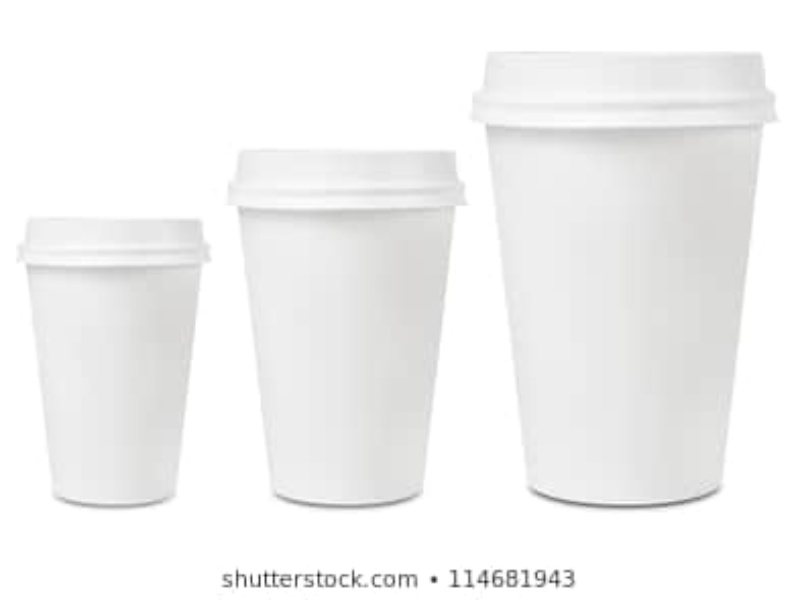coffee-lid: (468, 43, 780, 128), (229, 147, 472, 215), (16, 218, 213, 266)
plastic-cup: (468, 44, 780, 511), (227, 144, 462, 509), (13, 212, 201, 506)
